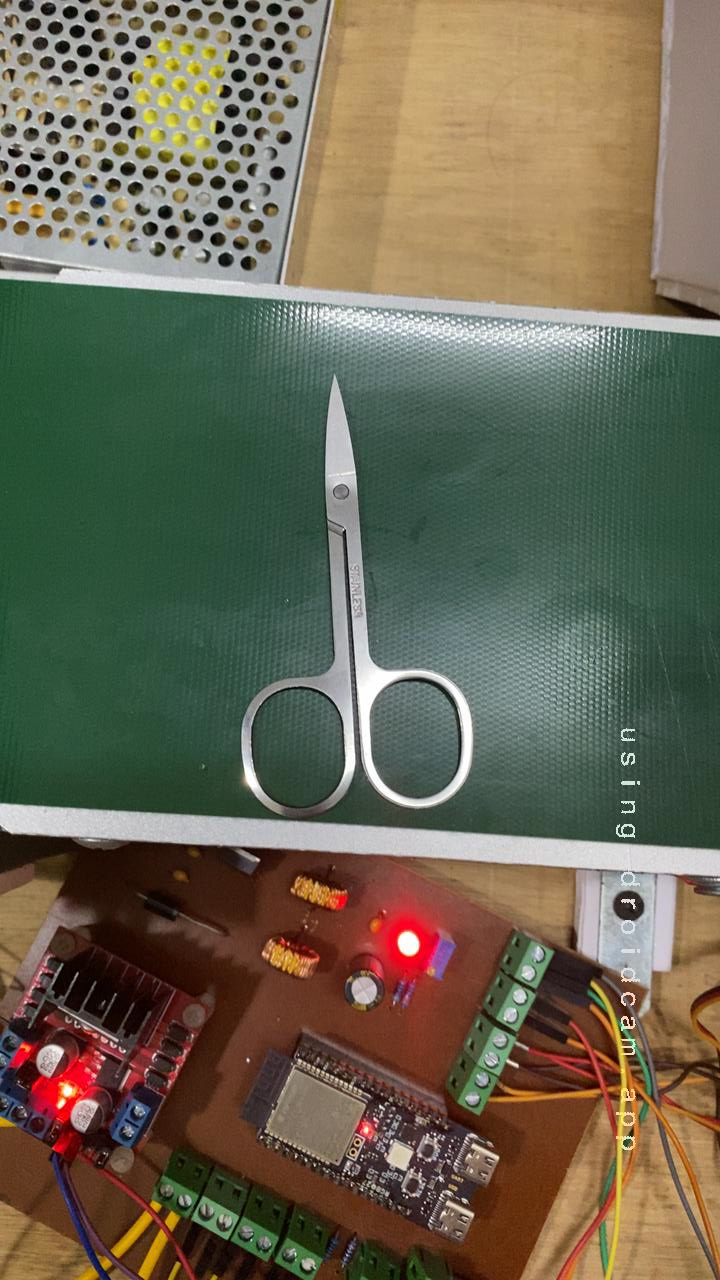scissor: (195, 378, 492, 827)
